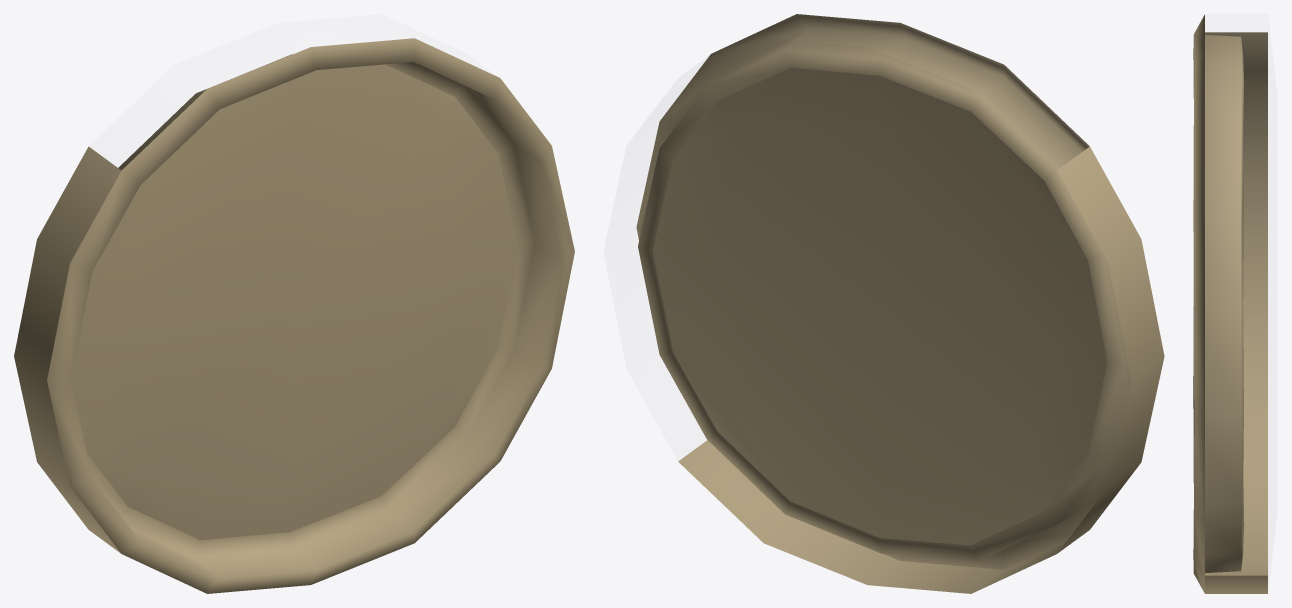
File: Clock.FBX
The picture shows the model from 3 angles, left to right: view 1: azimuth 30°, elevation 25°; view 2: azimuth 150°, elevation 25°; view 3: azimuth 270°, elevation 25°; orthographic projection. The views are drawn at different scales.
Parts seen in each view (by area): view 1: Clock; view 2: Clock; view 3: Clock.
Part boxes in pixels (x1,y1,x2,y2): Clock: (14,38,574,593); Clock: (636,14,1164,593); Clock: (1193,14,1267,593).
Size of the model in its own units: 88.77 by 86.44 by 12.81.
